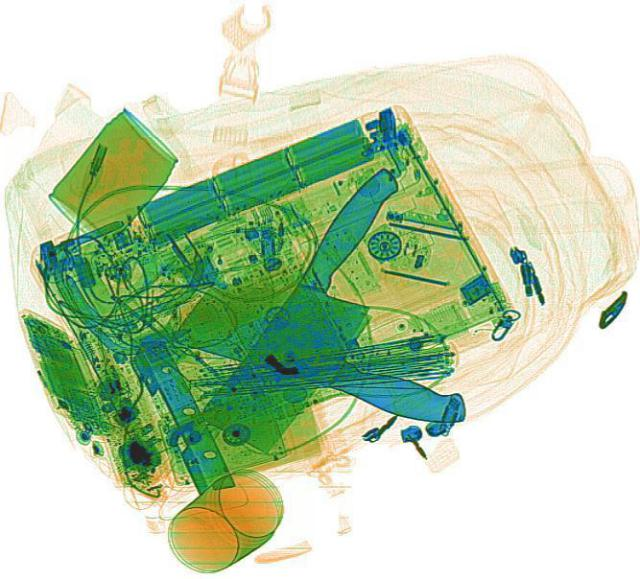Knife: (190, 162, 452, 457), (166, 260, 494, 431)
